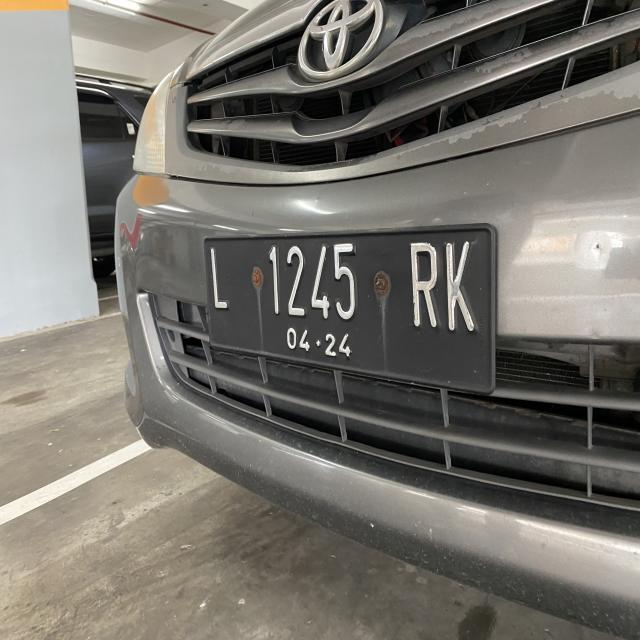1: (266, 242, 284, 320)
2: (283, 238, 309, 326)
4: (312, 239, 330, 325)
5: (334, 236, 364, 326)
K: (444, 232, 482, 340)
L: (206, 244, 232, 314)
R: (407, 235, 443, 334)
